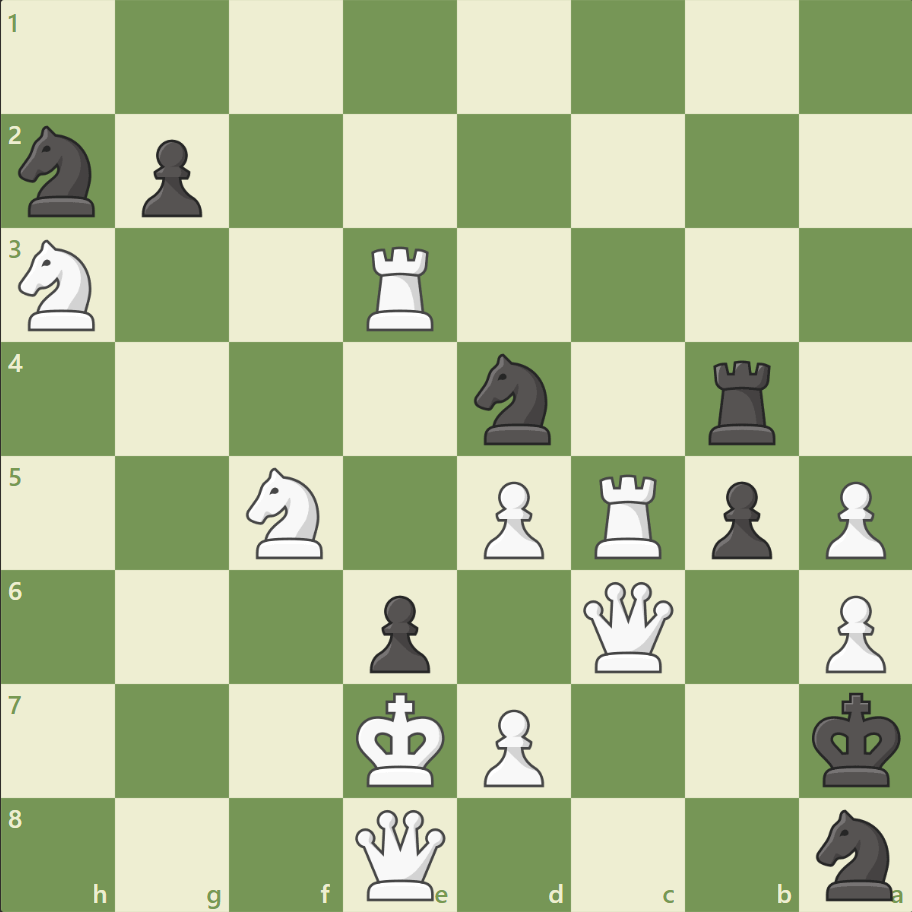K: (351, 685, 451, 793)
N: (238, 461, 335, 564), (11, 234, 108, 337)
P: (474, 700, 549, 791), (474, 473, 549, 564), (815, 586, 889, 677), (815, 473, 889, 564)
Q: (578, 576, 677, 676), (351, 804, 450, 903)
R: (587, 466, 670, 563), (360, 239, 442, 336)
k: (806, 685, 906, 793)
n: (806, 802, 903, 904), (465, 348, 562, 450), (11, 121, 108, 223)
p: (701, 473, 776, 564), (133, 132, 208, 223), (361, 586, 435, 677)
r: (700, 352, 783, 449)
